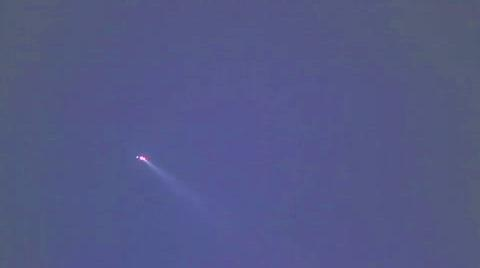Plane: (121, 146, 191, 189)
